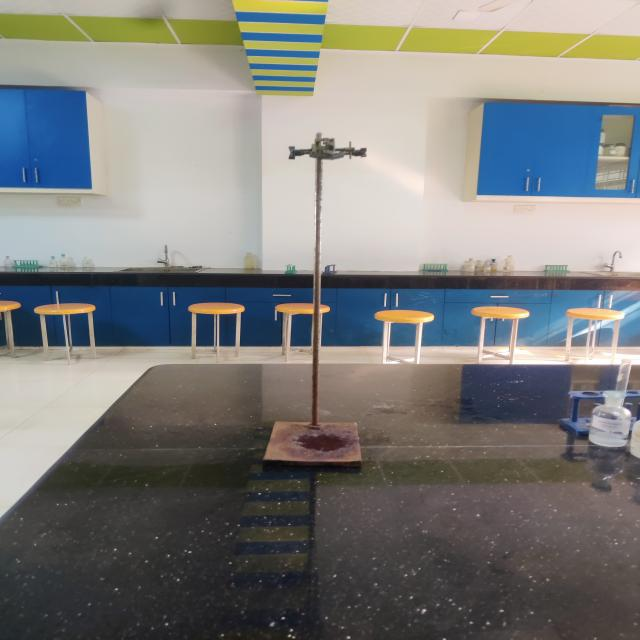Burette_Stands: (235, 112, 405, 492)
